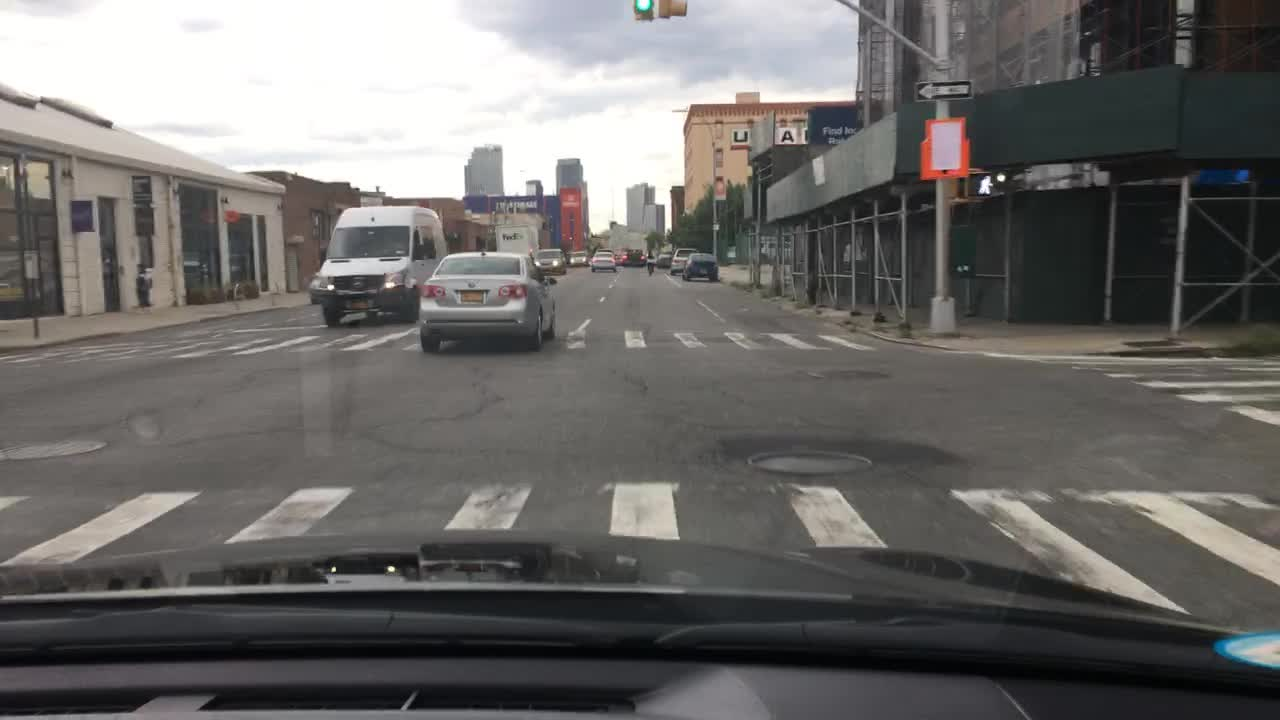bike: (643, 260, 658, 277)
car: (307, 202, 449, 329), (417, 248, 557, 353), (678, 251, 717, 285), (666, 245, 700, 278), (531, 246, 567, 273), (589, 251, 617, 273), (570, 246, 590, 266), (611, 248, 631, 266), (626, 246, 641, 268), (656, 248, 673, 266)
person: (134, 262, 151, 306)
rider: (643, 246, 658, 270)
traffic light: (962, 167, 1000, 197), (631, 0, 656, 20), (658, 2, 688, 18)
traffic sign: (918, 118, 972, 179), (911, 79, 973, 98), (23, 246, 42, 278)
truck: (492, 223, 540, 256)
